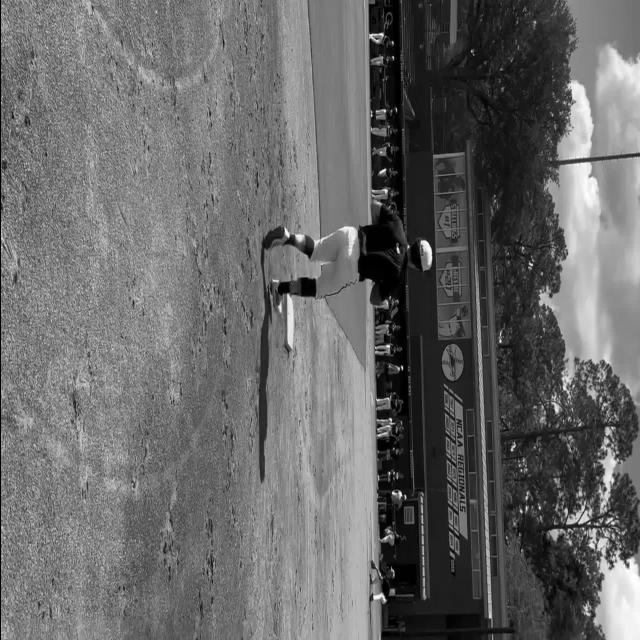base: (282, 296, 292, 351)
shoe: (262, 224, 289, 251), (269, 280, 281, 313)
